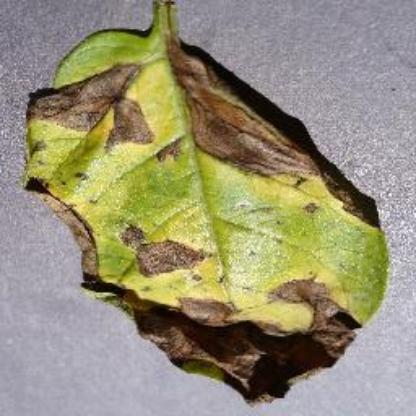Early-Blight: (25, 0, 390, 406)
